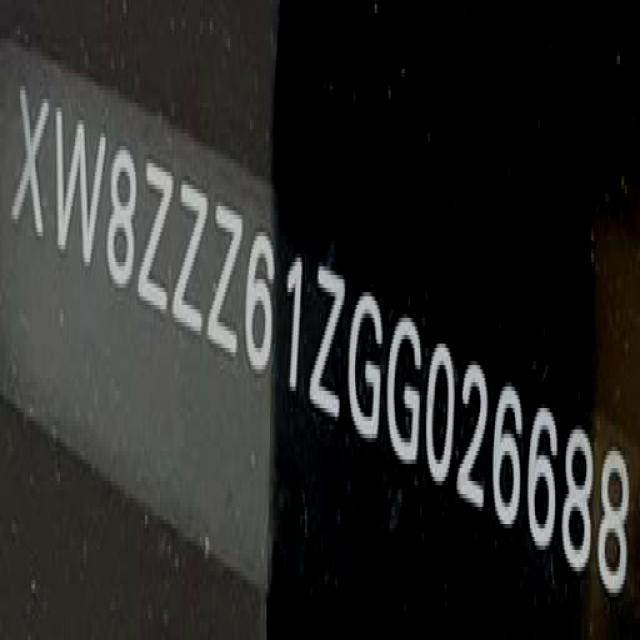0: (425, 332, 456, 496)
1: (286, 238, 308, 416)
2: (458, 354, 490, 518)
6: (492, 373, 526, 535), (245, 218, 278, 384), (528, 391, 560, 560)
8: (601, 434, 633, 601), (106, 140, 138, 301), (565, 422, 596, 582)
G: (348, 272, 384, 457), (385, 312, 421, 477)
W: (53, 99, 103, 279)
X: (14, 73, 50, 258)
Z: (311, 247, 345, 436), (175, 172, 209, 351), (139, 154, 172, 329), (209, 192, 242, 365)
